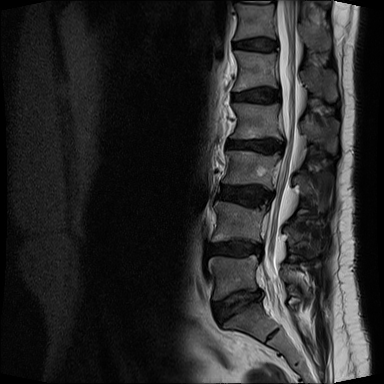Degenerative Disc Disease (DDD): (225, 83, 285, 107)
Lumbar Disc Bulge (LDB): (204, 283, 268, 329), (210, 177, 279, 213), (217, 131, 289, 161), (202, 234, 269, 264)
Spinal Stenosis (SS): (249, 230, 272, 268), (271, 126, 292, 159), (262, 180, 280, 214), (252, 281, 270, 310)
Thoracic Disc Bulge (TDB): (222, 34, 284, 56)
